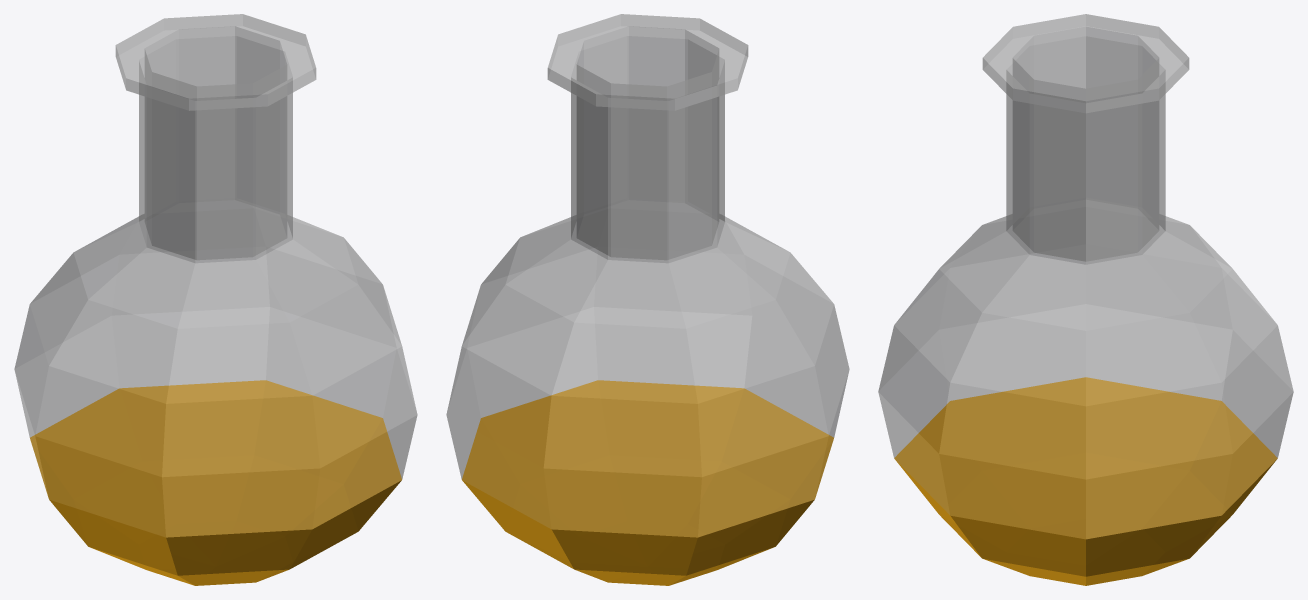
The model's file is BallFlaskHalfFull.fbx.
The picture shows the model from 3 angles, left to right: view 1: azimuth 30°, elevation 25°; view 2: azimuth 150°, elevation 25°; view 3: azimuth 270°, elevation 25°; orthographic projection.
Parts seen in each view (by area): view 1: polySurface34, polySurface33; view 2: polySurface34, polySurface33; view 3: polySurface34, polySurface33.
Boxes of the visible parts, x1,y1,x2,y2 form: polySurface34: (14,14,417,537); polySurface33: (30,380,401,585); polySurface34: (446,14,849,537); polySurface33: (462,380,833,585); polySurface34: (878,14,1293,539); polySurface33: (894,377,1277,585).
Size of the model in its own units: 13.52 by 18.24 by 13.52.
